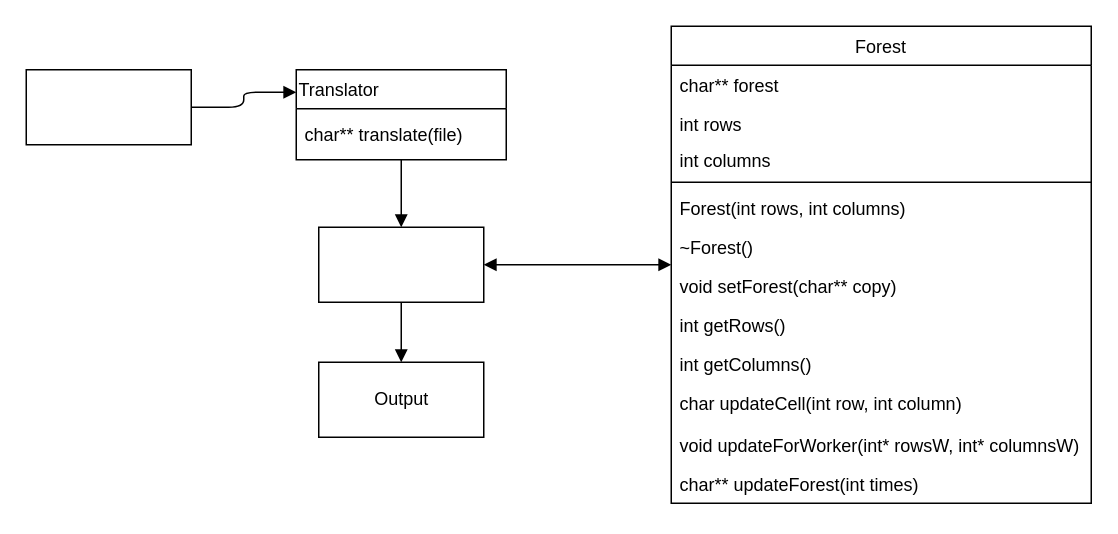
Image size: 1118x534. Some labels were removed from this diagram. The centre of each missing label's shape, as x and y in pixels:
Control: pixel 400 264
Input: pixel 108 106
